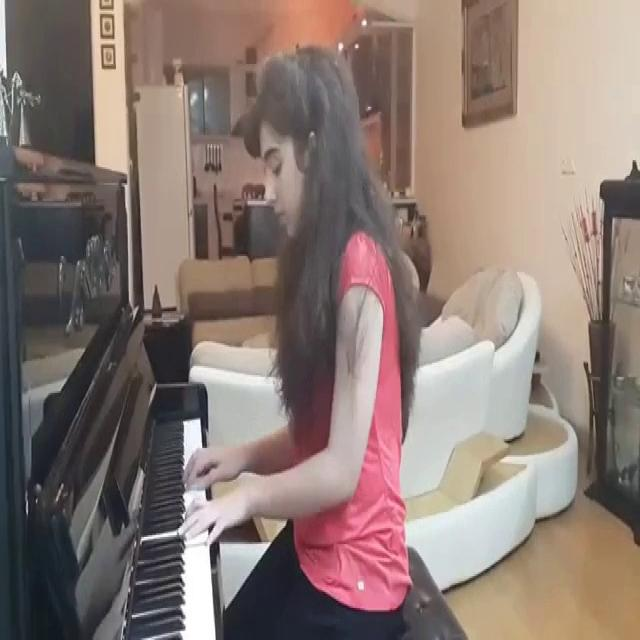Piano: (109, 409, 226, 640)
